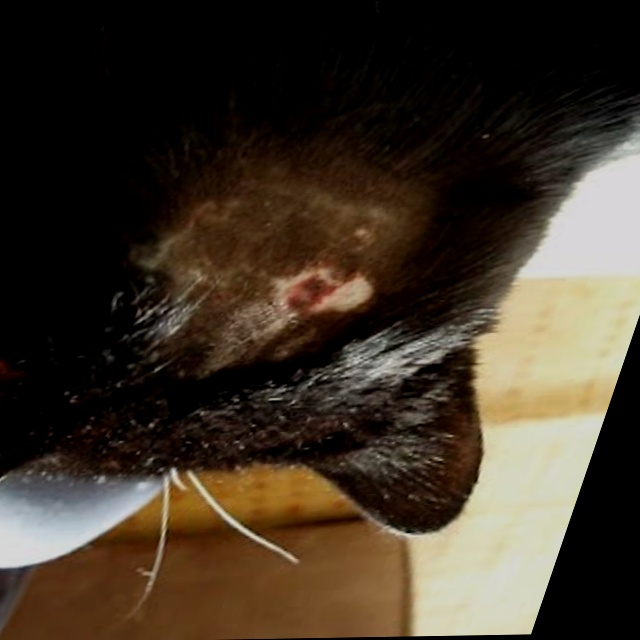ringworm: (265, 261, 393, 326)
